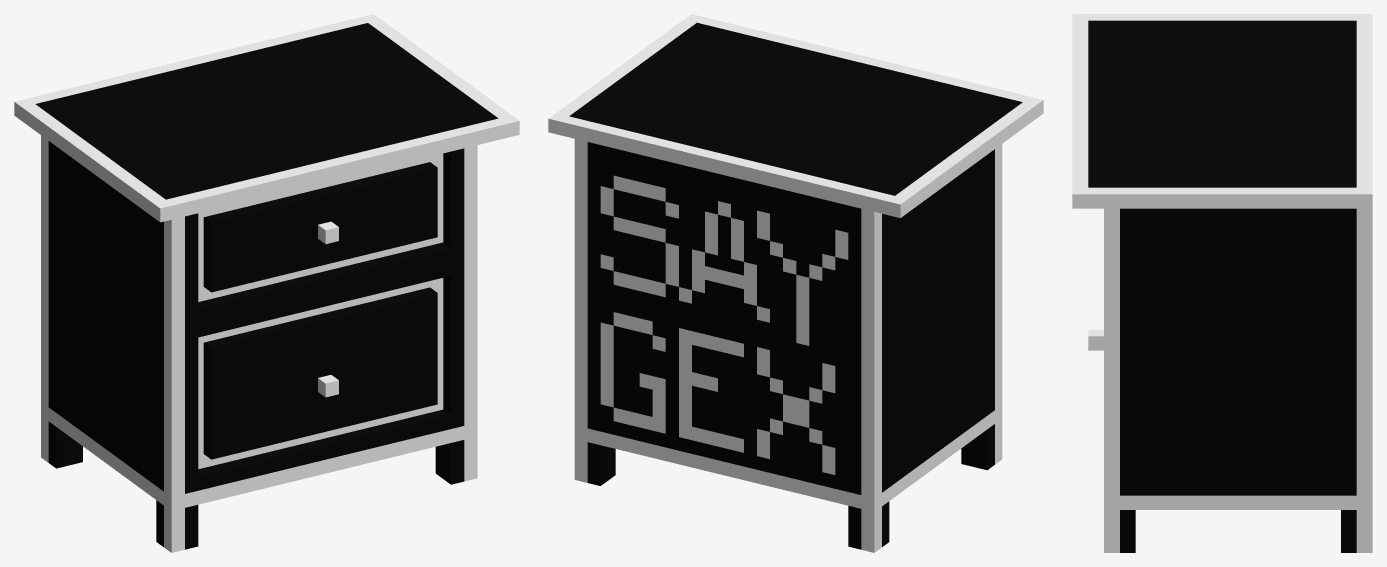
The model's file is DrawerClosed.obj.
3 views of the same model, side by side, from view 1: azimuth 30°, elevation 25°; view 2: azimuth 150°, elevation 25°; view 3: azimuth 270°, elevation 25° (orthographic). The views are drawn at different scales.
Size of the model in its own units: 2.7 by 2.6 by 1.9.
